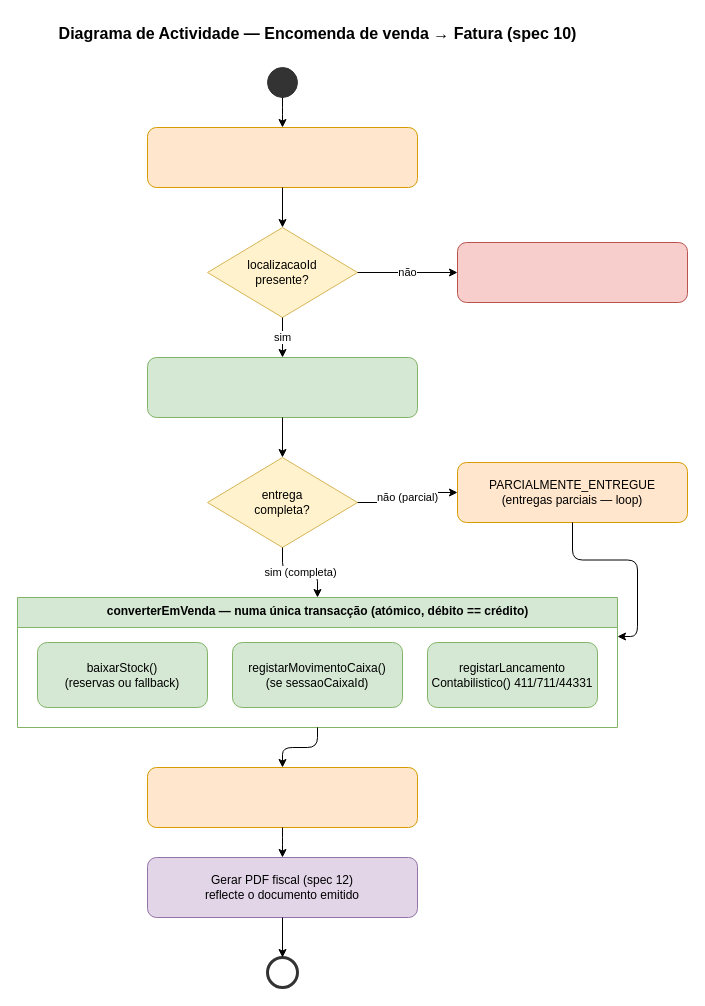
Image size: 705x1006. Some labels were removed from this diagram. The shapes that lost their labels are listed below. From the top down, each one's centre as x and y in pixels, then its label:
pixel 282 157: Criar encomenda (RASCUNHO) linhas + cliente + total (Decimal)
pixel 572 272: BusinessRuleError LOCALIZACAO_OBRIGATORIA
pixel 282 387: Confirmar (CONFIRMADA) contrato A: reservarStock() na transacção
pixel 282 797: Emitir factura (FATURADA) proximoNumeroSerie() · append-only
